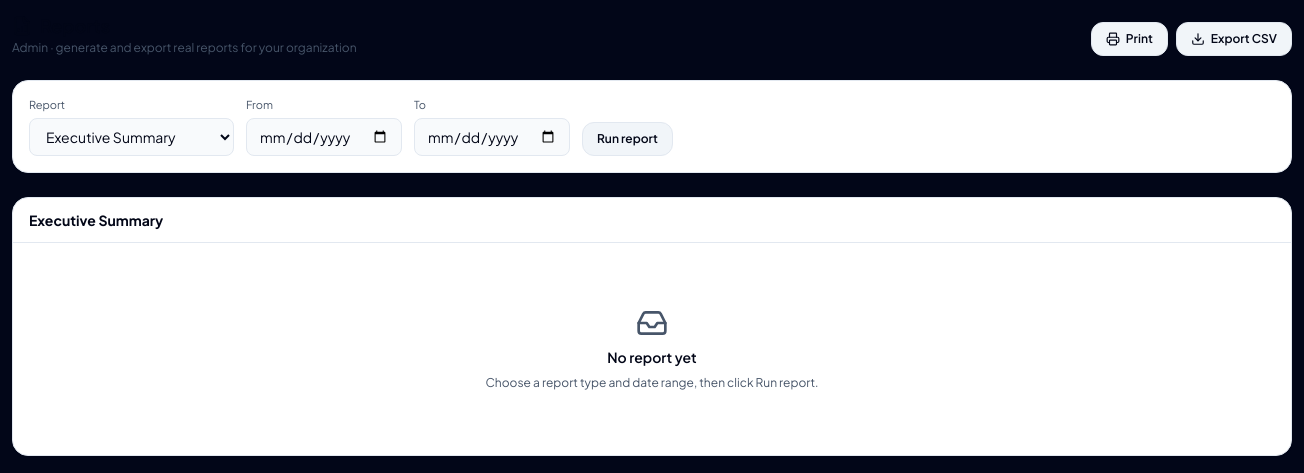
Test case: ReportsPage › runs a report and renders real key/value data from the API
Click the button "Run report". click: {"x": 627, "y": 138}
box: [582,122,673,156]
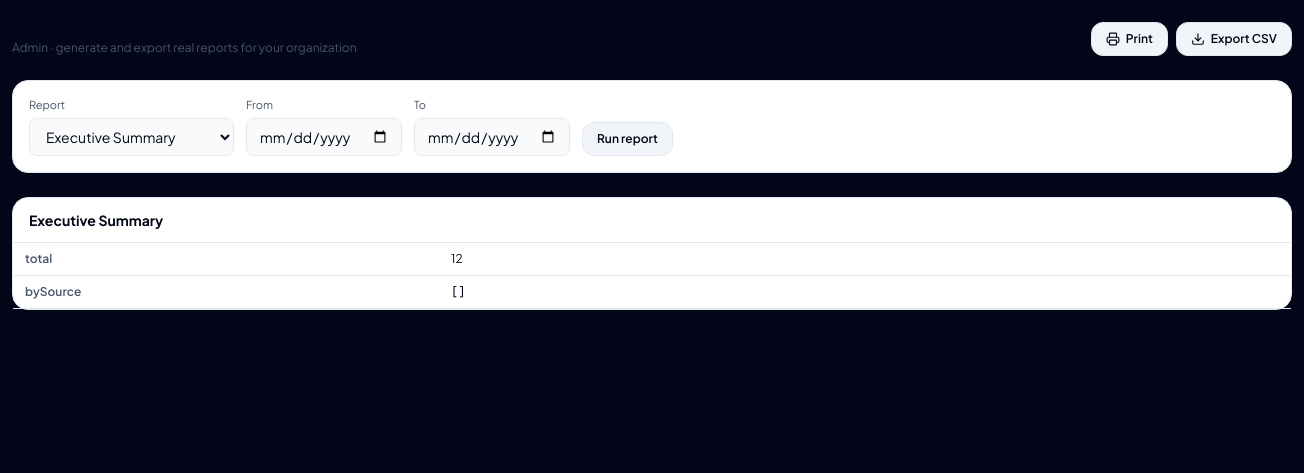
Now the text "12" is shown, box [439,242,1291,275]
